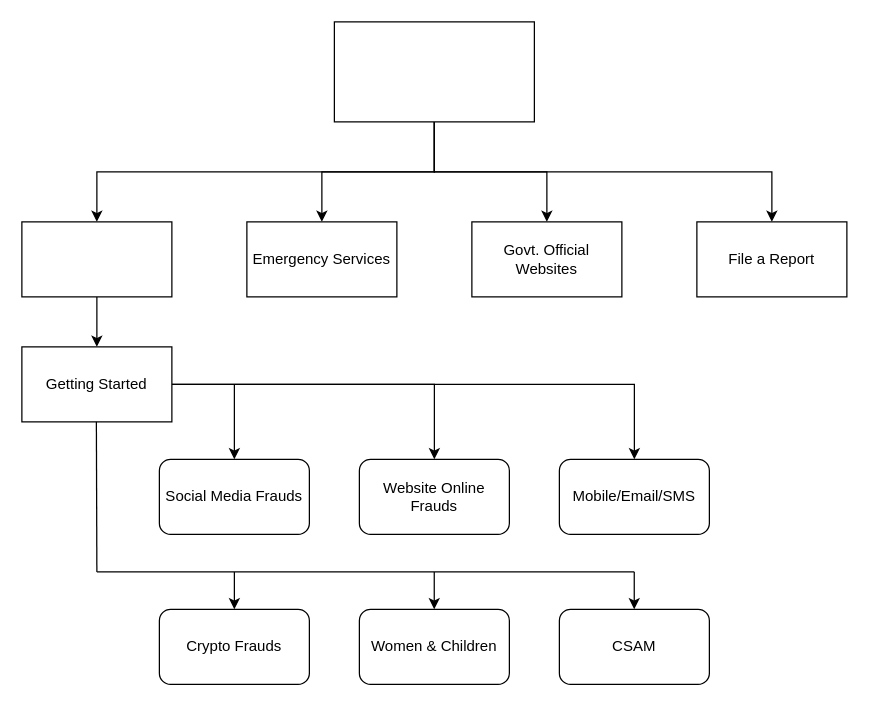
Image size: 869x706. Some labels were removed from this diagram. Each missing label, with the centre of its shape:
"Awareness & Education" goes at point 96,259.
"Cyber Abhigya" goes at point 433,71.
